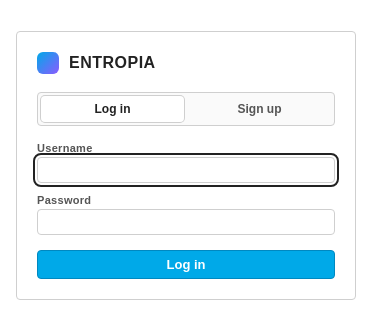
Test case: Login page › blocks submit and shows a hint when required fields are empty
Click the button "Log in". click: (186, 264)
box: [37,250,335,278]
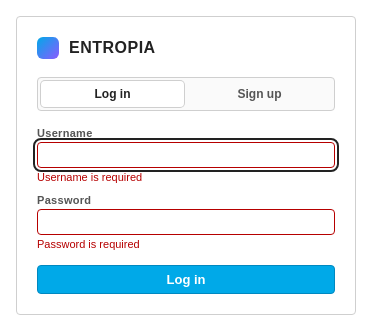
Expected: the text "Username is required" is shown, [37,170,142,182]
